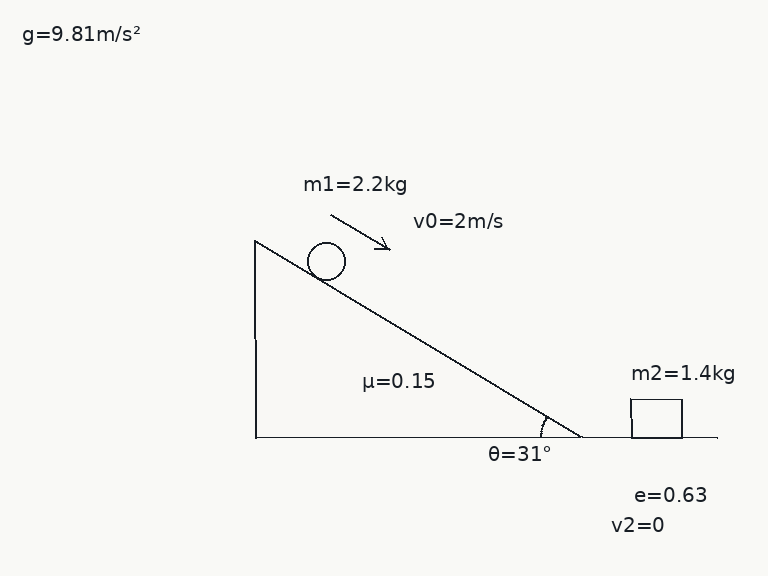ball: (305, 240, 347, 282)
block: (628, 398, 684, 439)
ramp: (252, 239, 583, 439)
